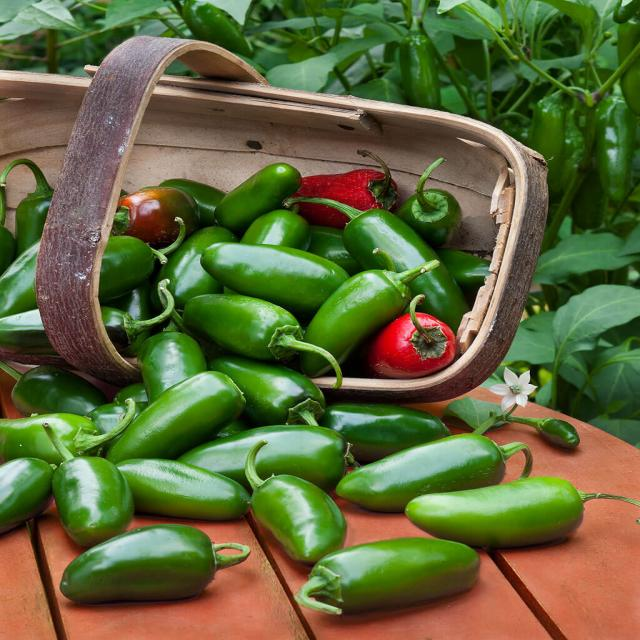aji: (135, 191, 494, 495)
